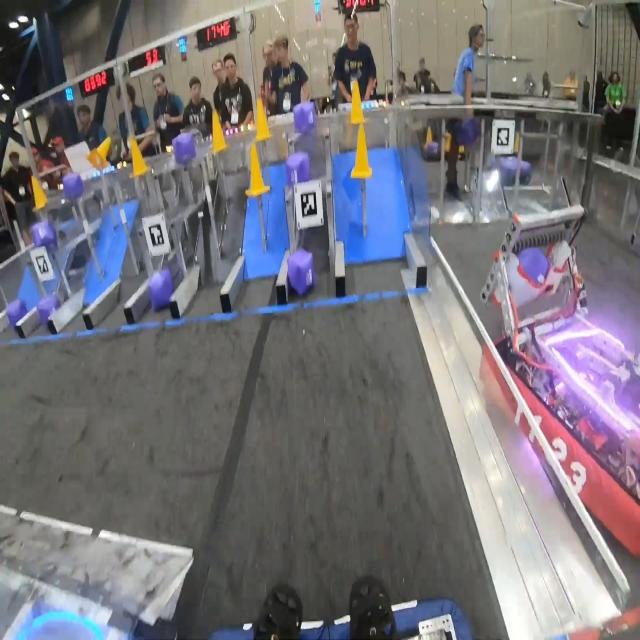robot: (479, 170, 640, 560)
